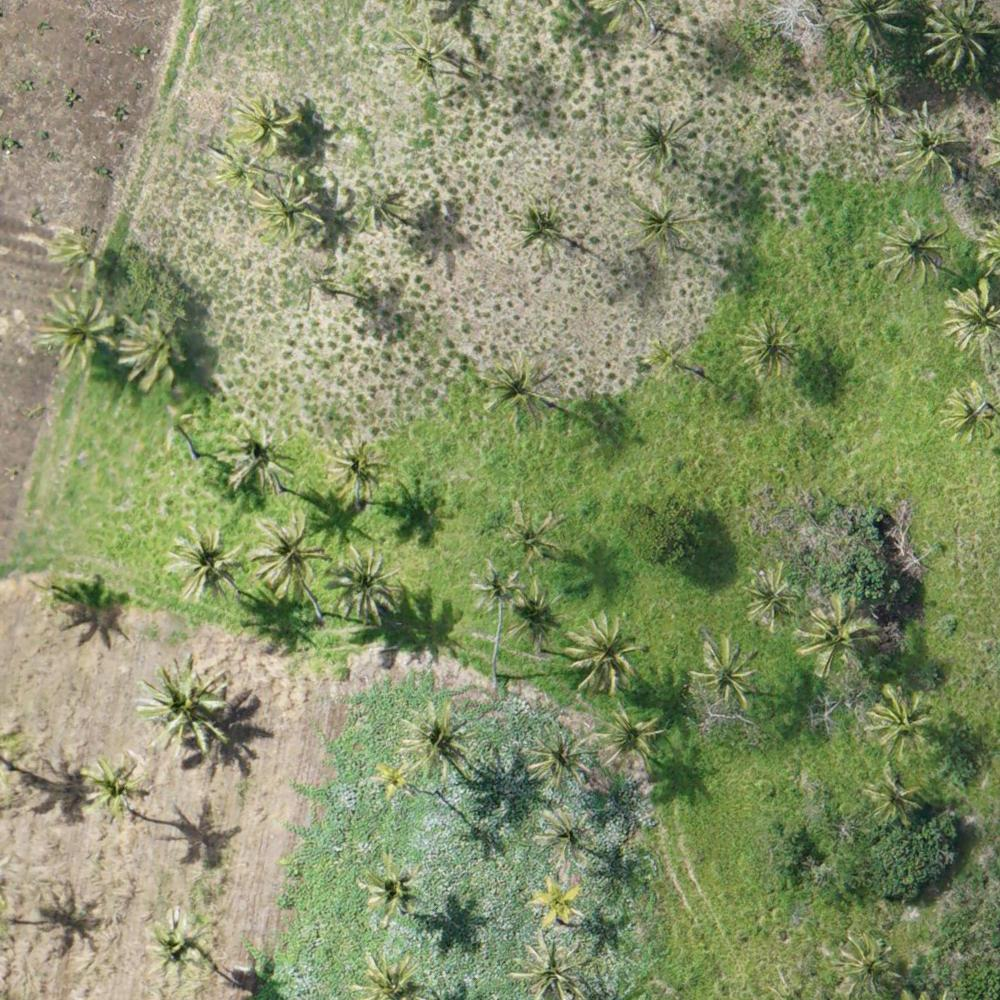Palm: (142, 660, 226, 746), (248, 513, 332, 597), (890, 104, 967, 184), (39, 290, 121, 362), (221, 414, 297, 491), (562, 614, 640, 689), (793, 600, 873, 671), (123, 307, 192, 388), (330, 546, 408, 617), (688, 632, 761, 707), (167, 522, 242, 594), (404, 702, 475, 776), (142, 911, 214, 983), (831, 65, 903, 136), (923, 2, 996, 72), (862, 685, 936, 754), (620, 109, 696, 176), (882, 208, 950, 280), (482, 355, 550, 425), (525, 726, 593, 794), (357, 855, 422, 926), (938, 286, 1000, 360), (389, 25, 459, 89), (256, 174, 322, 240), (493, 501, 564, 562), (503, 580, 567, 647), (515, 940, 586, 1000), (82, 758, 151, 819), (737, 315, 803, 378), (864, 762, 931, 824), (232, 93, 297, 155), (322, 434, 385, 496), (738, 566, 799, 629), (629, 198, 699, 252), (351, 948, 423, 1000), (537, 806, 598, 867), (600, 704, 662, 763), (938, 384, 992, 445), (513, 196, 571, 252), (24, 564, 80, 619), (530, 871, 586, 926), (466, 559, 522, 612), (209, 145, 264, 193), (641, 331, 690, 380), (368, 756, 420, 802)
